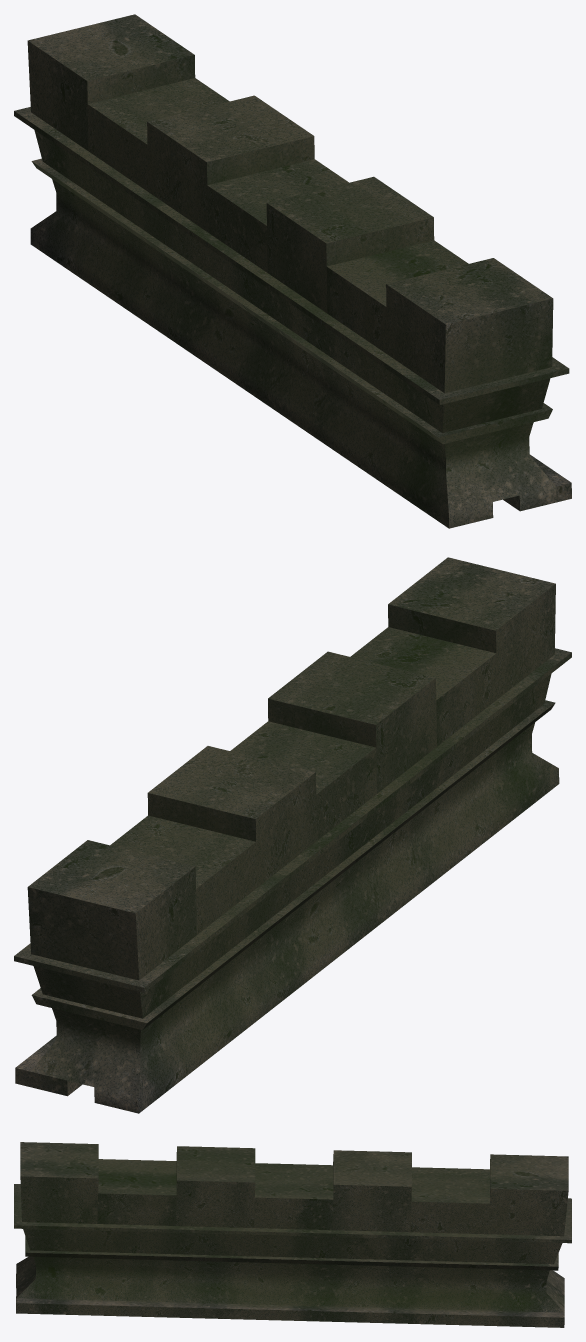
The model's file is ruin06.fbx.
3 renders of one model, top to bottom at view 1: azimuth 30°, elevation 25°; view 2: azimuth 150°, elevation 25°; view 3: azimuth 270°, elevation 25°, orthographic. The views are drawn at different scales.
Parts seen in each view (by area): view 1: pCube5; view 2: pCube5; view 3: pCube5.
Part boxes in pixels (box(x1,y1,x2,y2)): pCube5: box(14, 14, 571, 528); pCube5: box(14, 557, 571, 1113); pCube5: box(14, 1142, 571, 1327).
Bounding box in the file's own units: 92.17 × 147 × 507.
